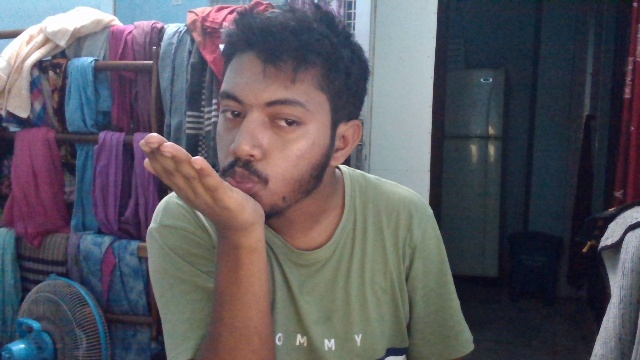iloveu: (128, 7, 375, 226)
